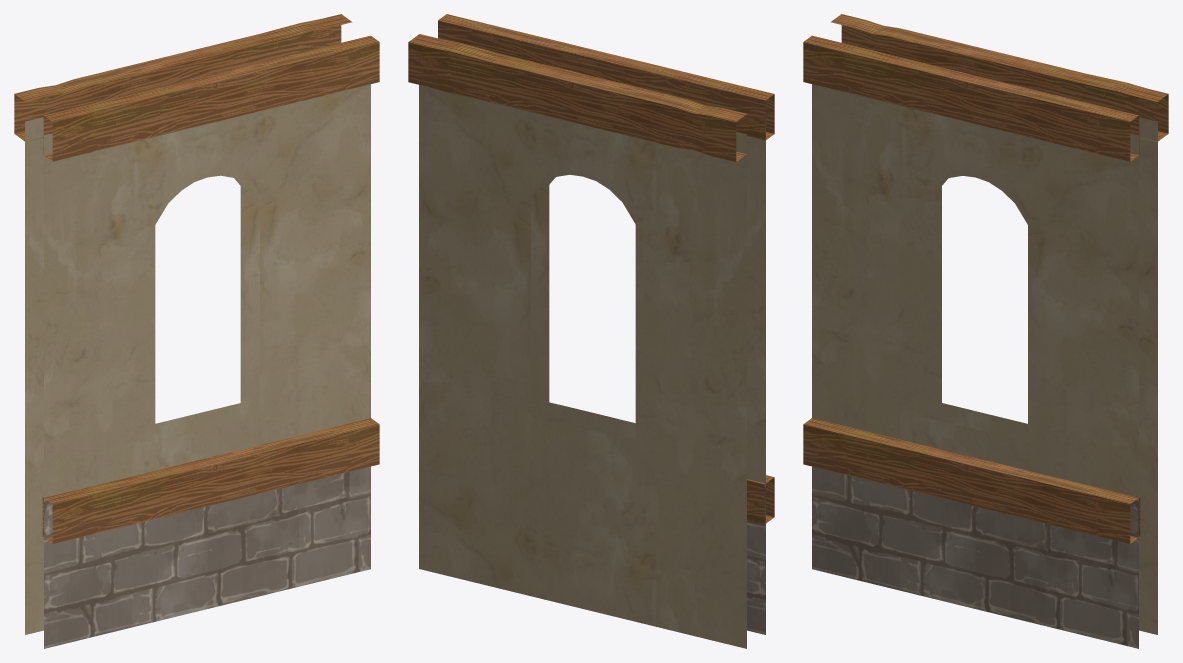
The model's file is Wall_Plaster_Window_Thin_Round.glb.
3 views of the same model, side by side, from view 1: azimuth 30°, elevation 25°; view 2: azimuth 150°, elevation 25°; view 3: azimuth 330°, elevation 25° (orthographic).
Visible parts, largest first — view 1: Wall_Plaster_Window_Thin_Round; view 2: Wall_Plaster_Window_Thin_Round; view 3: Wall_Plaster_Window_Thin_Round.
Boxes of the visible parts, x1,y1,x2,y2 form: Wall_Plaster_Window_Thin_Round: (14,14,379,648); Wall_Plaster_Window_Thin_Round: (408,14,774,648); Wall_Plaster_Window_Thin_Round: (803,14,1168,648).
Bounding box in the file's own units: 2 × 3.12 × 0.4065.
3 materials, 3 textured.
